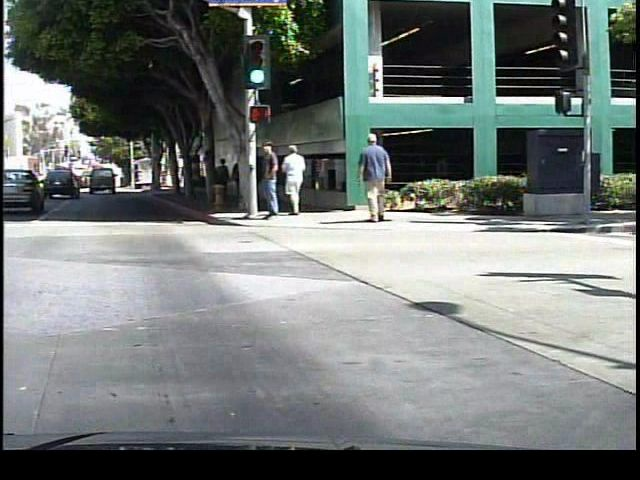person: (353, 131, 395, 222), (255, 138, 285, 228), (277, 142, 308, 216), (215, 156, 231, 202)
